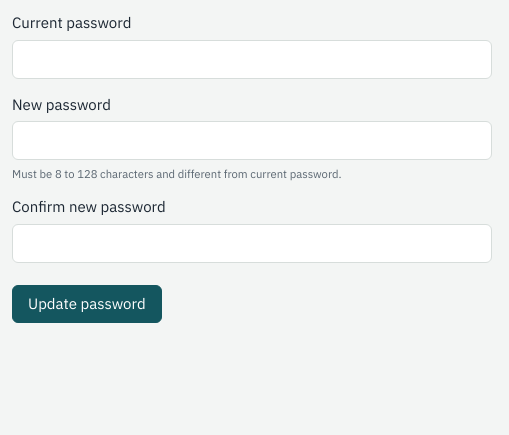
Scenario: ChangePasswordForm Component › displays rate limit cooldown notice and disables submit button on 429 error
This screenshot has width=509, height=435.
In the password field labelled "Current password": x=252, y=59 [12,40,492,79], type "OldPassword123!"
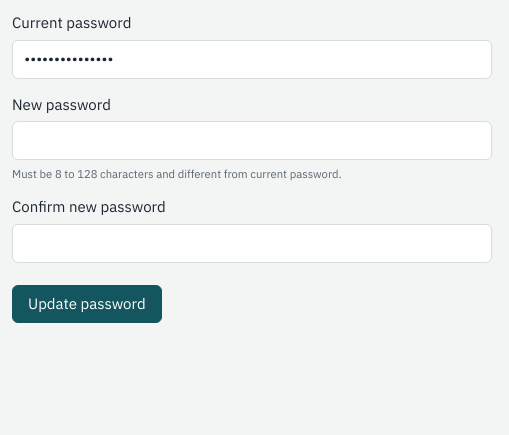
In the password field labelled "New password": x=252, y=141 [12,121,492,160], type "NewSecretPassword123!"
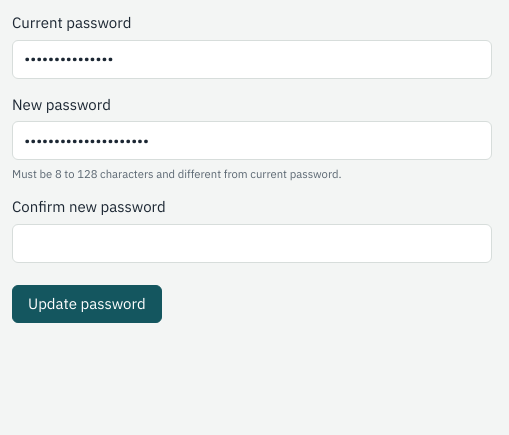
In the password field labelled "Confirm new password": x=252, y=243 [12,224,492,262], type "NewSecretPassword123!"
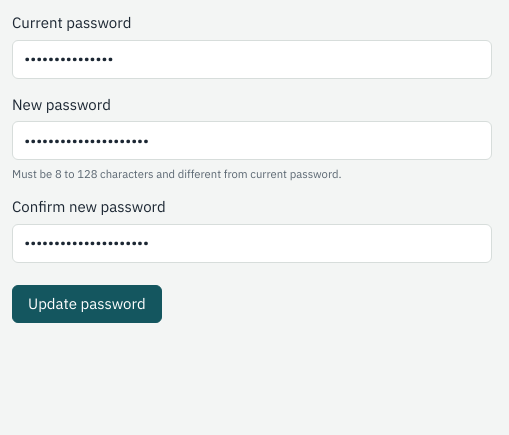
Click the button "Update password": x=87, y=304 [12,285,162,323]
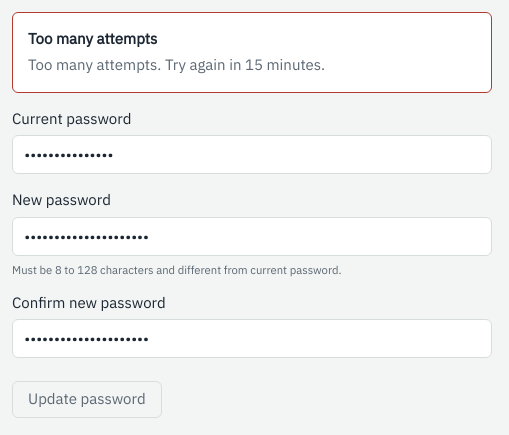
Expected: the text "Too many attempts. Try again in 15 minutes." is shown, [28,55,325,74]
Expected: the button "Update password" is disabled, [12,381,162,418]
